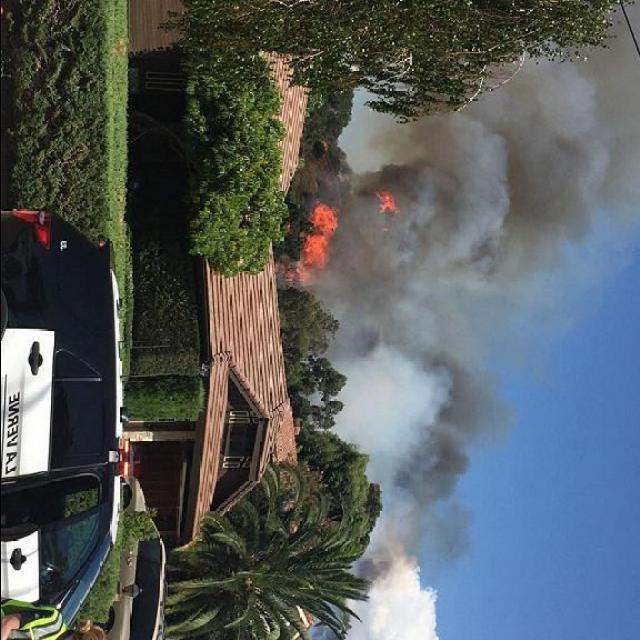Fire: (297, 204, 343, 308), (372, 188, 398, 214)
